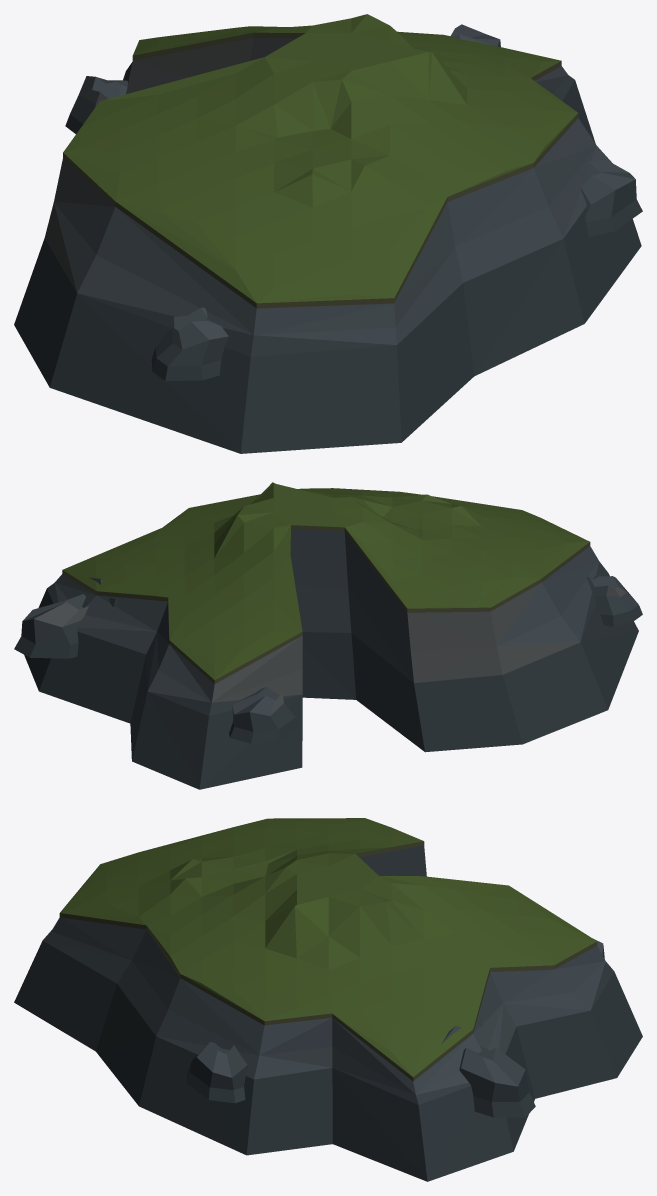
Rendered from island_c.glb.
The picture shows the model from 3 angles, top to bottom: view 1: azimuth 30°, elevation 25°; view 2: azimuth 150°, elevation 25°; view 3: azimuth 270°, elevation 25°; orthographic projection. The views are drawn at different scales.
Visible parts, largest first — view 1: island_c_Coast blue grey bedrock, island_c_Coast short olive grass; view 2: island_c_Coast blue grey bedrock, island_c_Coast short olive grass; view 3: island_c_Coast blue grey bedrock, island_c_Coast short olive grass.
Part boxes in pixels (x1,y1,x2,y2): island_c_Coast blue grey bedrock: (14,24,642,453); island_c_Coast short olive grass: (63,14,578,308); island_c_Coast blue grey bedrock: (14,529,642,789); island_c_Coast short olive grass: (62,482,590,683); island_c_Coast blue grey bedrock: (14,845,642,1181); island_c_Coast short olive grass: (59,818,597,1081).
Size of the model in its own units: 85.62 by 26.99 by 86.72.
